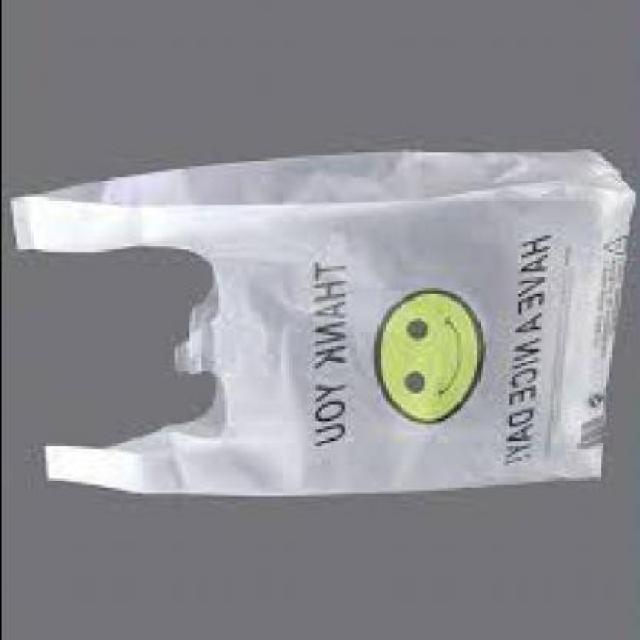PLASTIC: (6, 144, 628, 490)
